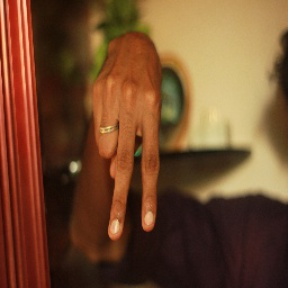Y: (84, 58, 166, 240)
